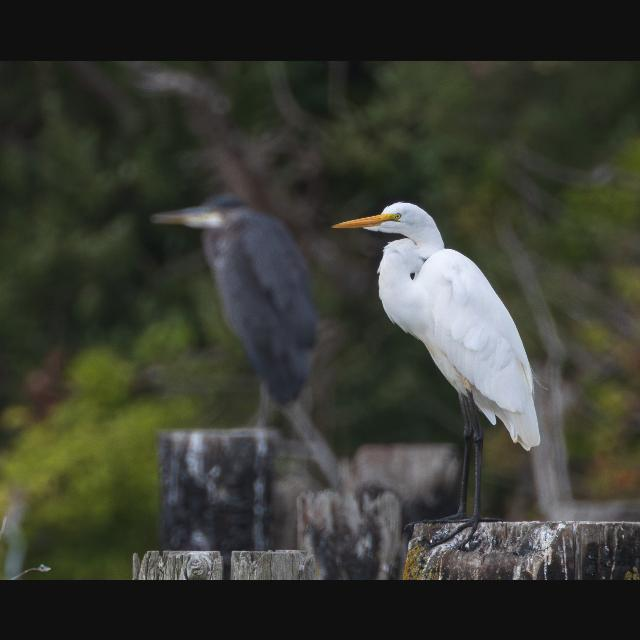egret: (328, 198, 550, 540)
